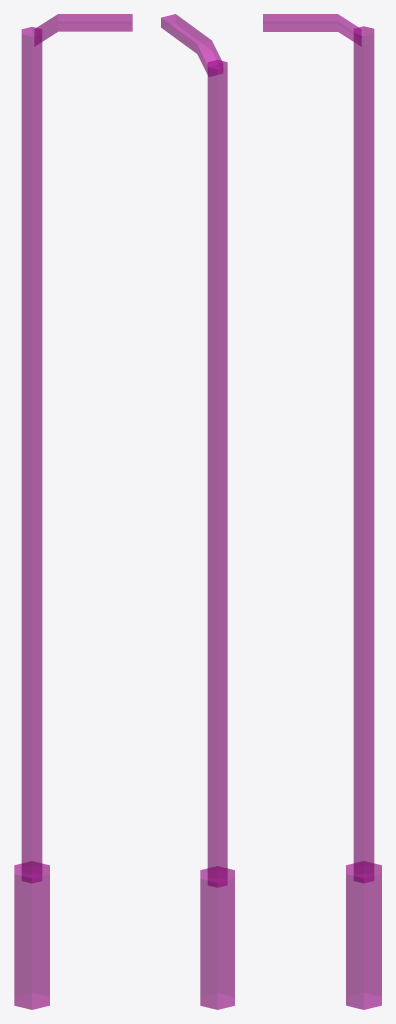
The model's file is SM_Veh_Bumper_Cars_Aerial_01_Collision.fbx.
3 renders of one model, left to right at view 1: azimuth 90°, elevation 25°; view 2: azimuth 210°, elevation 25°; view 3: azimuth 270°, elevation 25°, orthographic. The views are drawn at different scales.
Parts seen in each view (by area): view 1: SM_Veh_Bumper_Cars_Aerial_01_Collision; view 2: SM_Veh_Bumper_Cars_Aerial_01_Collision; view 3: SM_Veh_Bumper_Cars_Aerial_01_Collision.
Boxes of the visible parts, <box> form: SM_Veh_Bumper_Cars_Aerial_01_Collision: <box>14,14,132,1009</box>; SM_Veh_Bumper_Cars_Aerial_01_Collision: <box>161,14,234,1009</box>; SM_Veh_Bumper_Cars_Aerial_01_Collision: <box>263,14,381,1009</box>.
Bounding box in the file's own units: 12.48 × 327 × 35.75.
